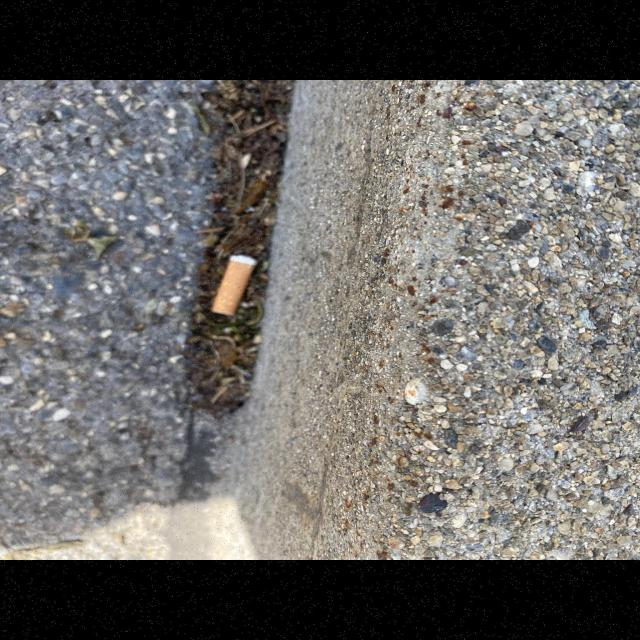other waste: (208, 255, 258, 318)
